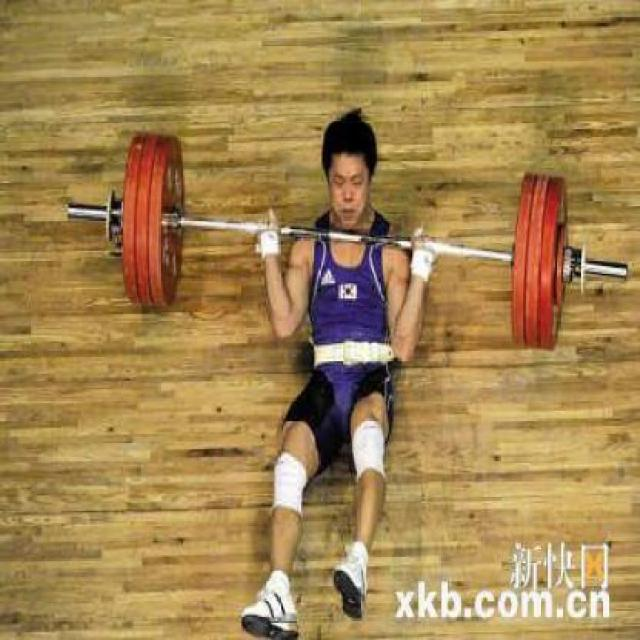fall: (239, 99, 439, 623)
